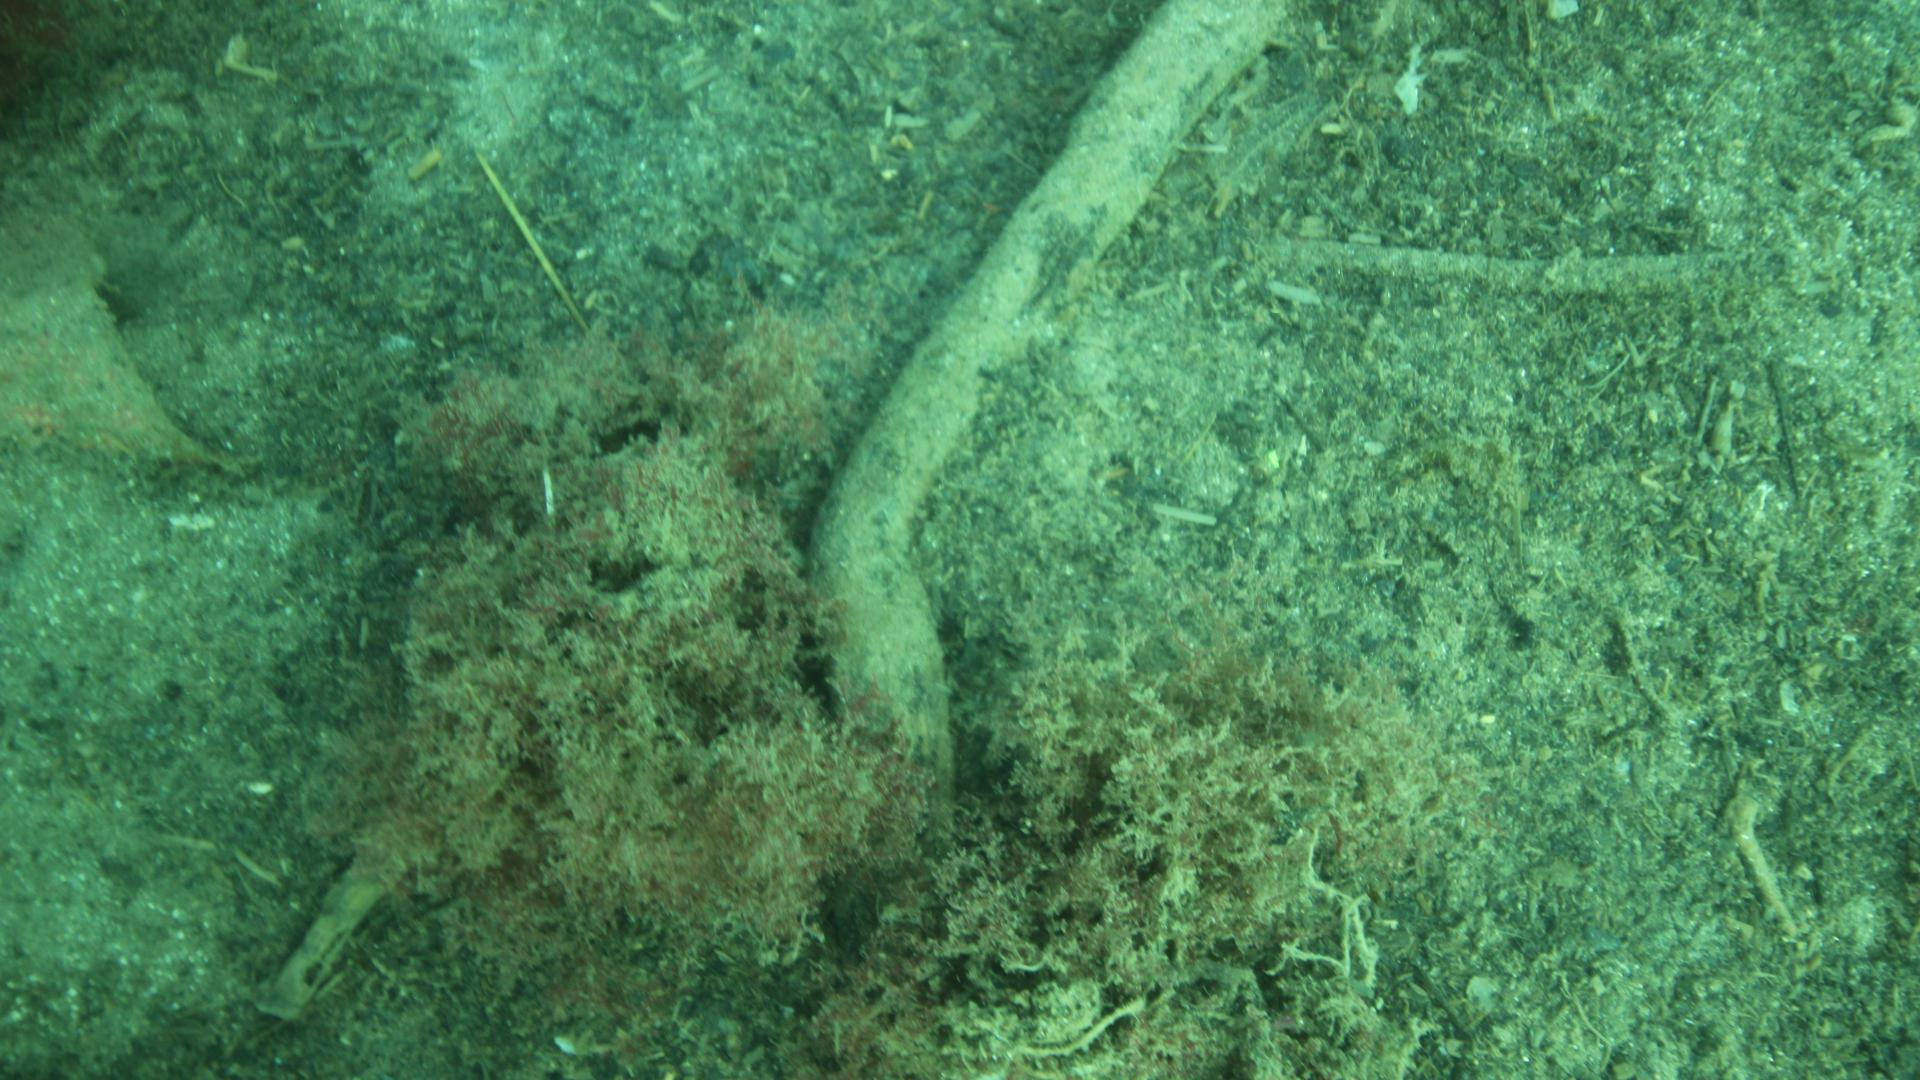wood: (818, 0, 1294, 764)
